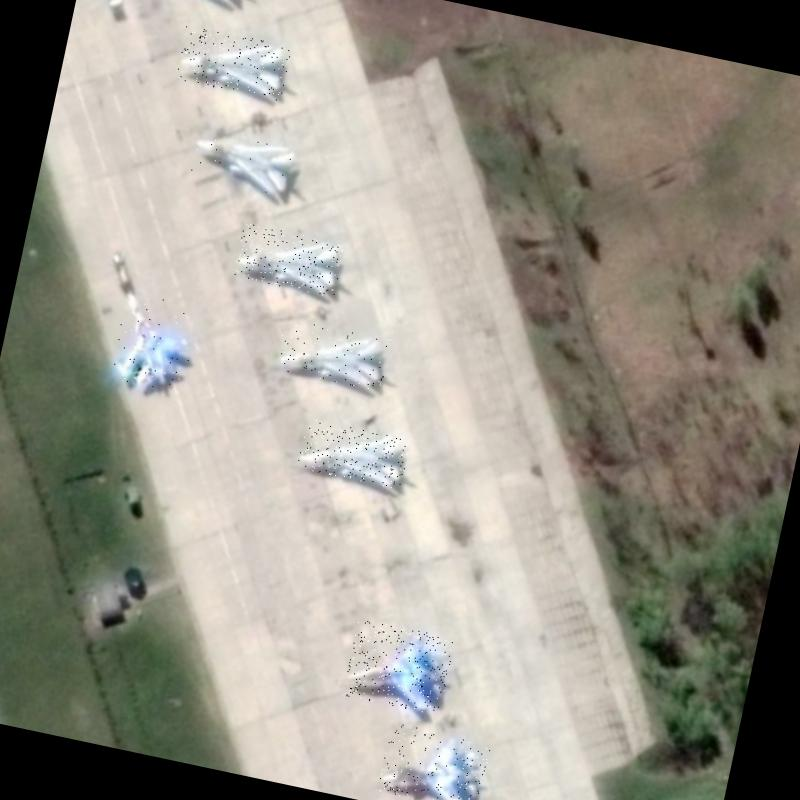A1: (342, 618, 456, 716), (108, 286, 201, 394), (376, 722, 491, 800)
A20: (175, 24, 292, 102), (272, 317, 392, 392), (232, 223, 345, 298), (296, 418, 412, 490), (188, 126, 300, 198)
